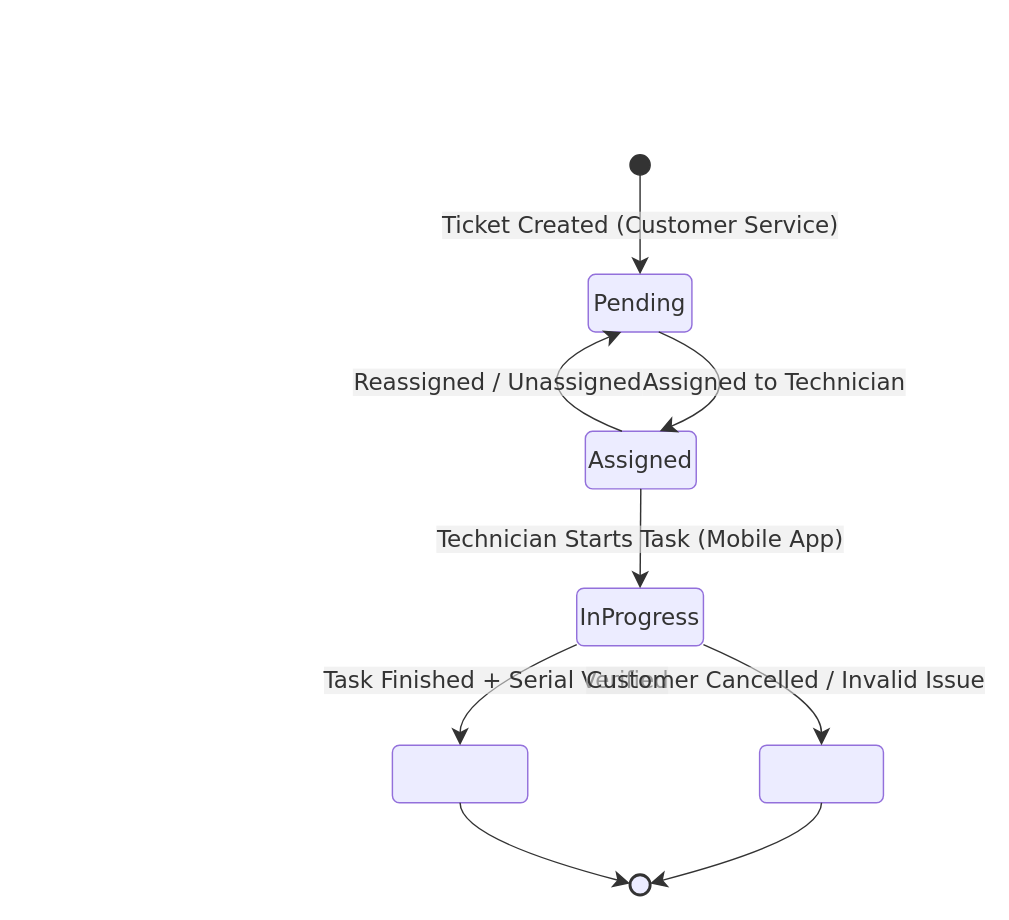
The diagram is 1009 pixels wide and 920 high, and some of its shapes have lost their labels. The shapes that lost their labels are listed below. From the top down, each one's centre as x and y in pixels, then its label:
At point (459, 773): "Completed".
At point (820, 773): "Cancelled".
